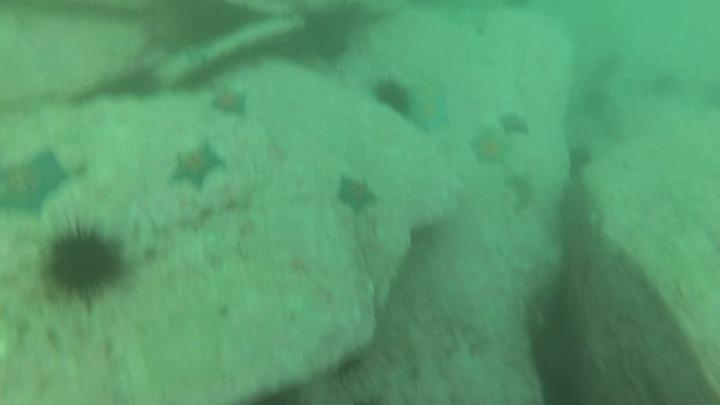echinus: (41, 220, 127, 303), (299, 14, 353, 65), (111, 65, 163, 104), (370, 76, 416, 120), (645, 68, 683, 101), (565, 143, 596, 176)
starfish: (0, 147, 72, 221), (166, 139, 228, 194), (404, 90, 454, 136), (332, 172, 381, 218), (467, 128, 514, 170), (207, 84, 253, 122), (495, 109, 533, 140)
